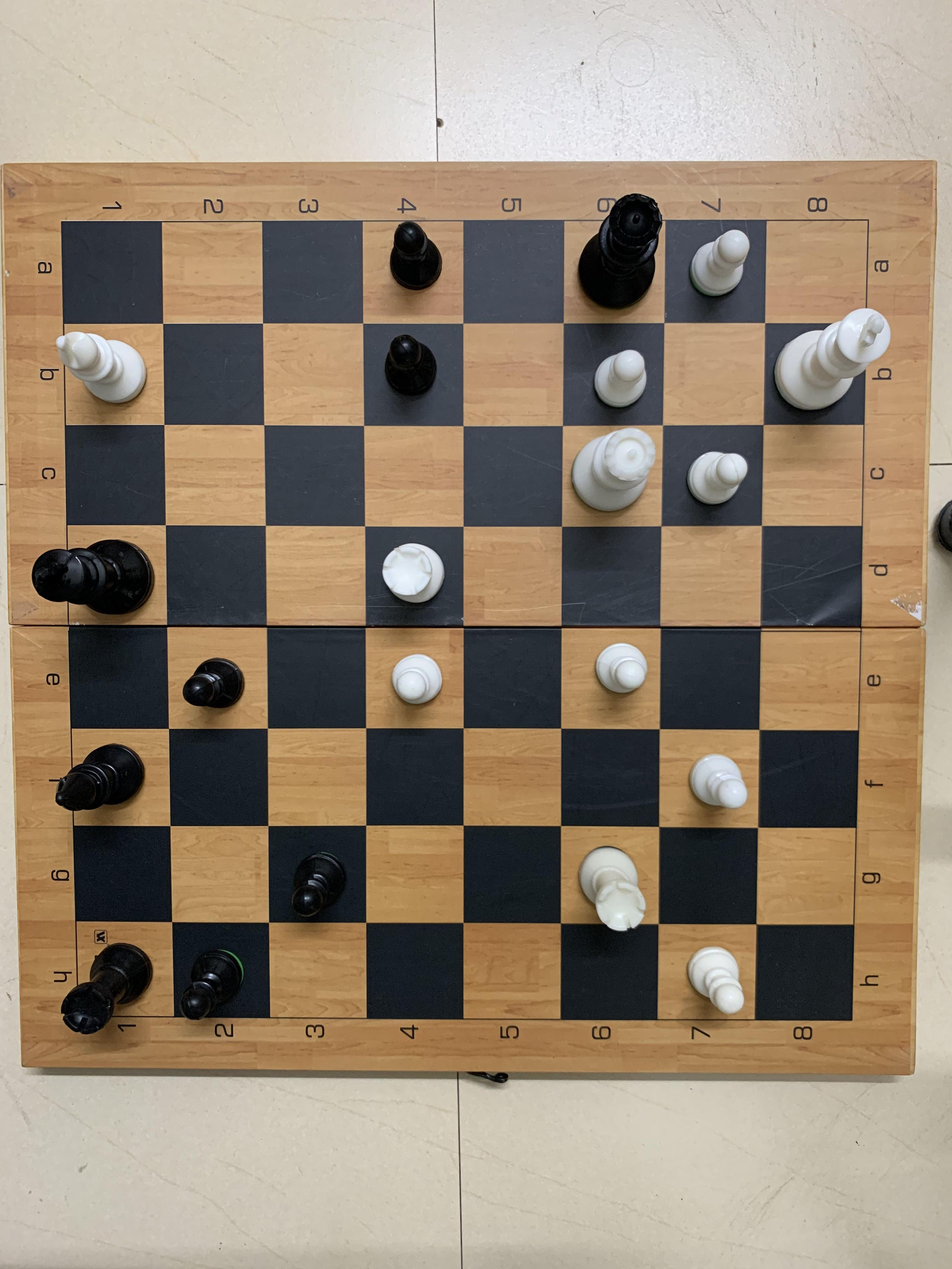black_bishop: (43, 735, 167, 828)
black_king: (22, 527, 154, 625)
black_pawn: (359, 203, 462, 309), (167, 941, 266, 1043), (173, 630, 259, 723), (280, 842, 358, 930), (373, 326, 445, 404)
black_queen: (570, 184, 668, 318)
black_rook: (54, 926, 158, 1047)
white_bishop: (44, 323, 158, 420)
white_king: (773, 293, 895, 421)
white_pawn: (571, 631, 664, 735), (371, 638, 464, 735), (682, 228, 770, 314), (675, 742, 755, 829), (571, 332, 654, 414), (674, 436, 754, 518), (675, 940, 759, 1018)
white_queen: (564, 420, 664, 524)
white_rook: (565, 838, 654, 931), (371, 529, 455, 609)
